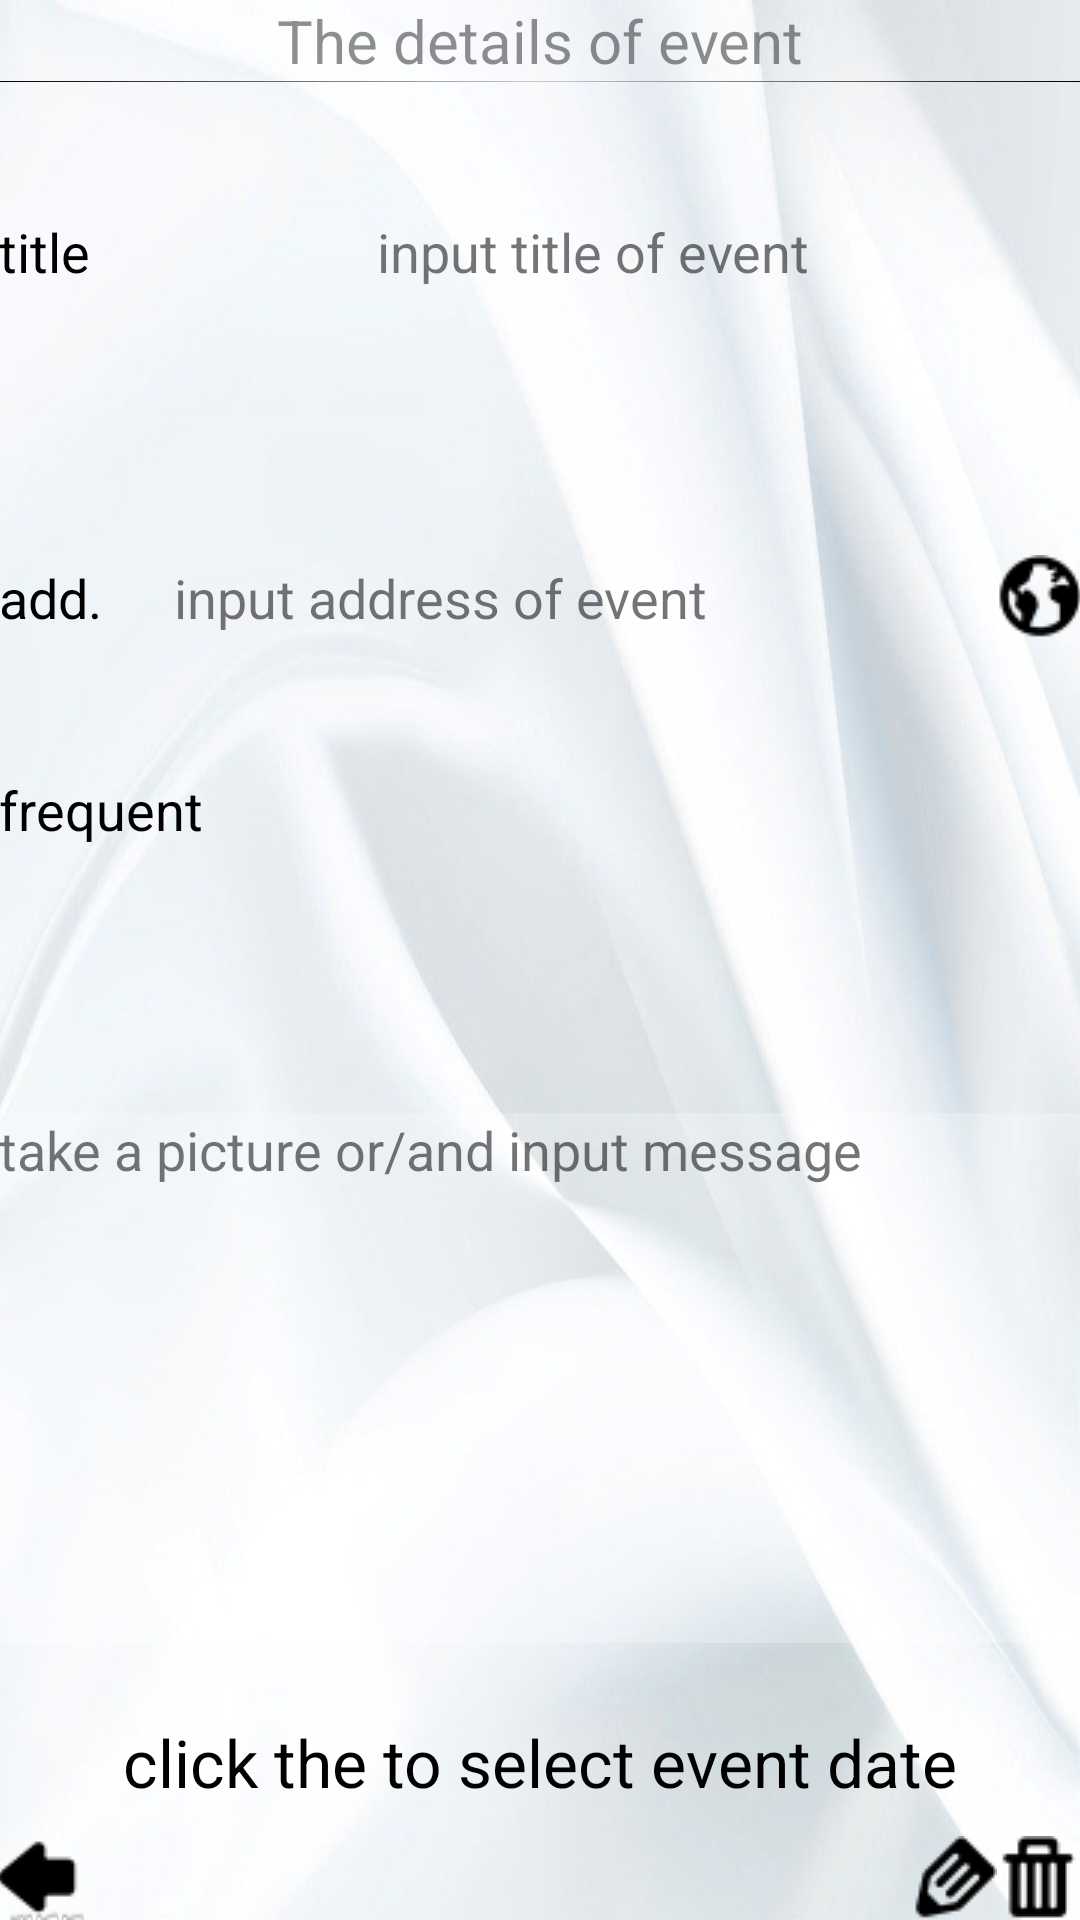

Icon click points for this 1080px x 1920px phone screenshot, format [x,y]:
back: [41,1880]
change: [956,1877]
check map: [1039,596]
delete: [1037,1878]
